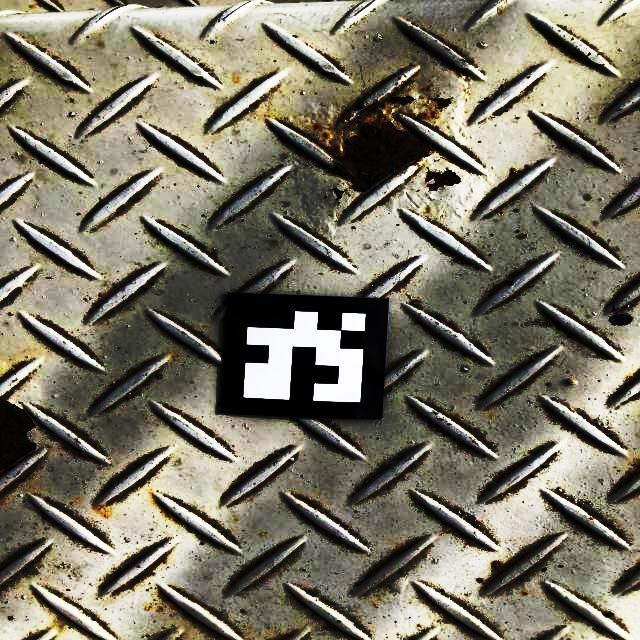Corrosion: (289, 75, 450, 192), (0, 397, 36, 471), (425, 170, 461, 191)
